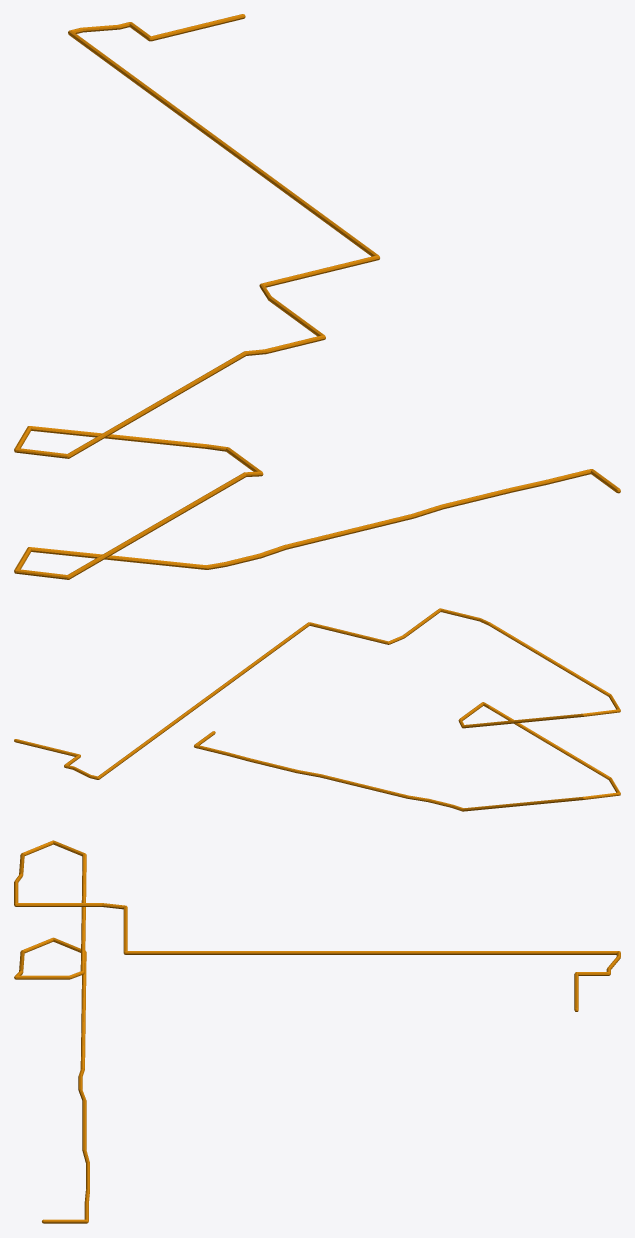
3 renders of one model, top to bottom at view 1: azimuth 30°, elevation 25°; view 2: azimuth 150°, elevation 25°; view 3: azimuth 270°, elevation 25°, orthographic. The views are drawn at different scales.
Size of the model in its own units: 2595 by 1020 by 2831.
